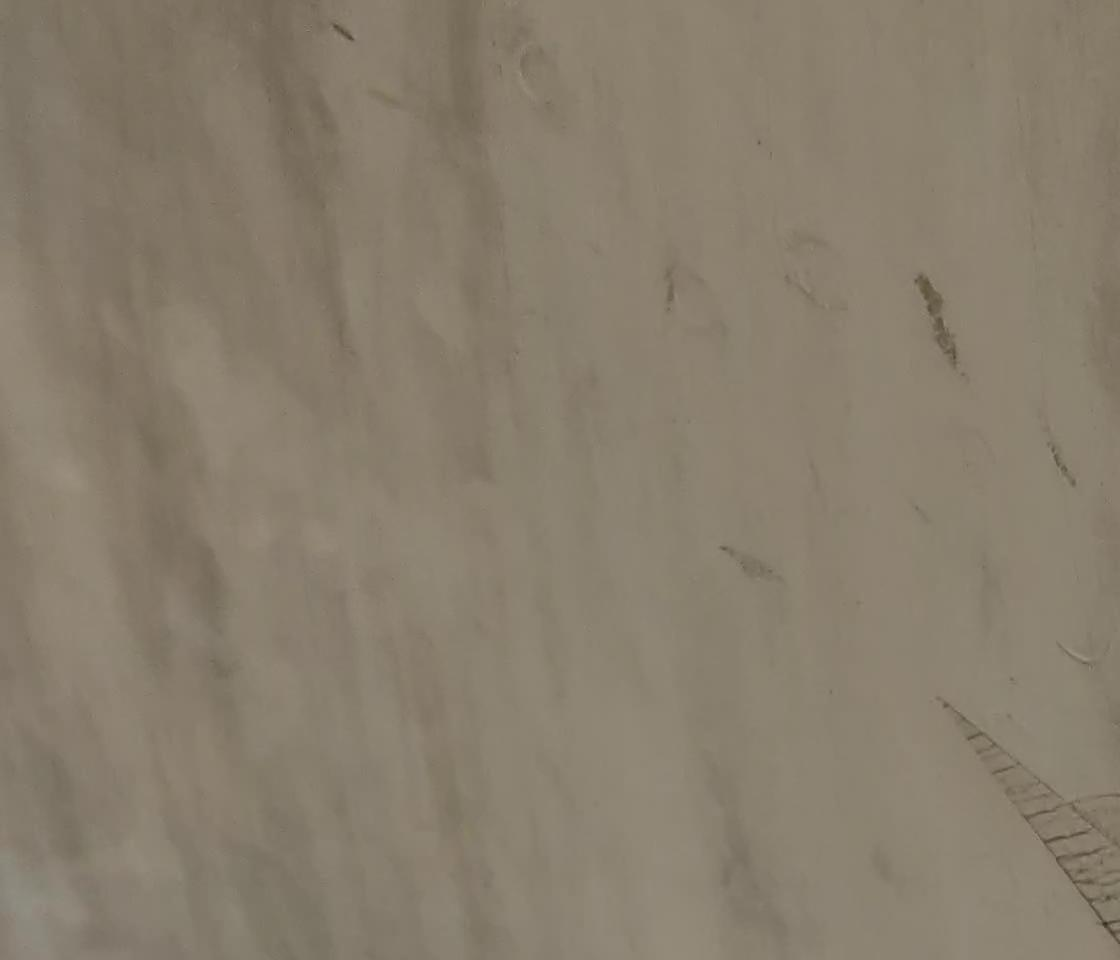scratch: (903, 271, 970, 376), (326, 13, 356, 49)
